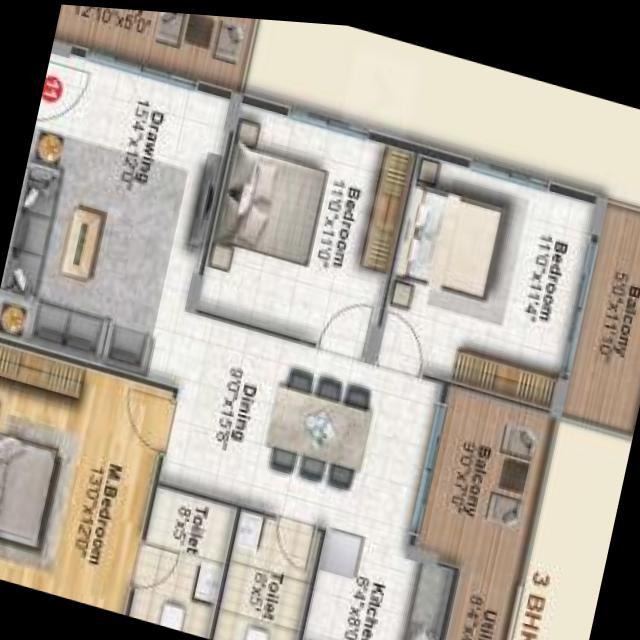Balcony-Sitout: (410, 374, 555, 573), (552, 184, 640, 425), (52, 4, 258, 95)
Bedroom: (182, 89, 419, 363), (374, 139, 606, 404)
Bedroom with Toilet: (0, 333, 179, 614)
Dining: (255, 354, 383, 494)
Enterance-Foyer: (33, 48, 107, 146)
Kitchen: (297, 518, 458, 640)
Living: (0, 41, 238, 390)
Toilet: (130, 474, 240, 636), (210, 496, 324, 640)
Utility: (432, 553, 524, 640)
